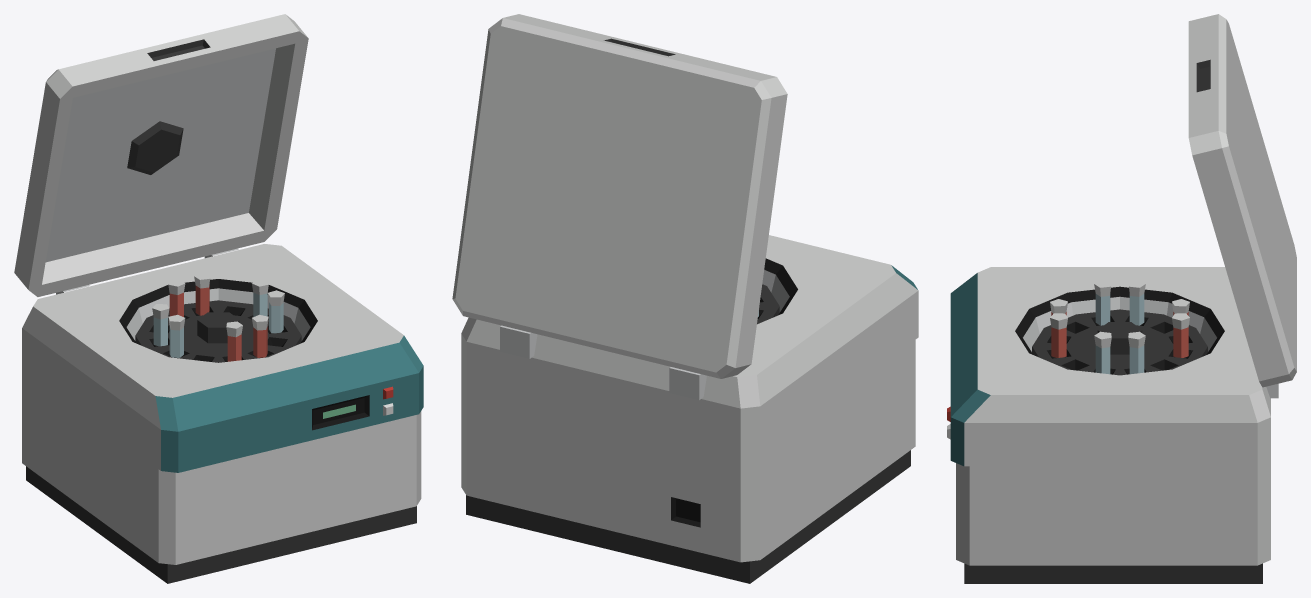
The model's file is centrifuge-benchtop-b76ef2.glb.
The picture shows the model from 3 angles, left to right: view 1: azimuth 30°, elevation 25°; view 2: azimuth 150°, elevation 25°; view 3: azimuth 270°, elevation 25°; orthographic projection. The views are drawn at different scales.
Visible parts, largest first — view 1: cabinet, lid-shell, rotor-disc, tube-set; view 2: cabinet, lid-shell; view 3: cabinet, lid-shell, rotor-disc, tube-set.
Part boxes in pixels (box(x1,y1,x2,y2)): cabinet: box(22, 244, 423, 583); lid-shell: box(14, 14, 308, 296); rotor-disc: box(135, 300, 301, 362); tube-set: box(152, 272, 284, 361); cabinet: box(461, 235, 918, 583); lid-shell: box(452, 14, 787, 378); cabinet: box(947, 267, 1278, 583); lid-shell: box(1188, 14, 1296, 387); rotor-disc: box(1032, 309, 1207, 375); tube-set: box(1050, 280, 1189, 374).
Size of the model in its own units: 0.6 by 0.9248 by 0.6555.
